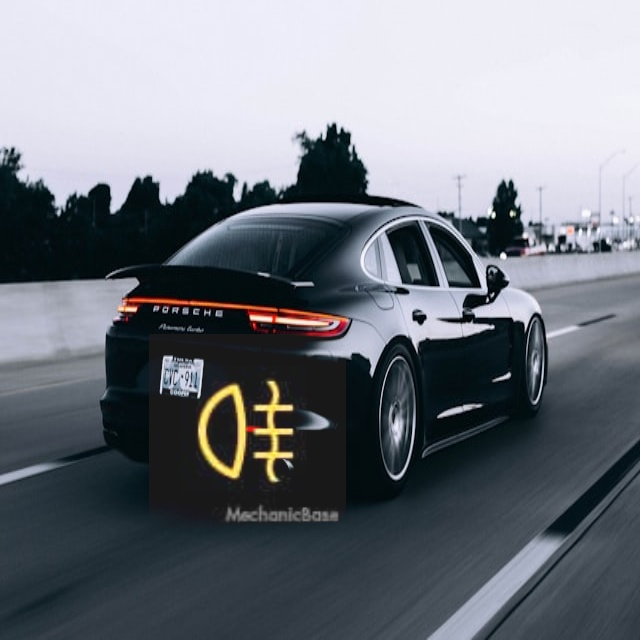symbol: (149, 334, 346, 531)
